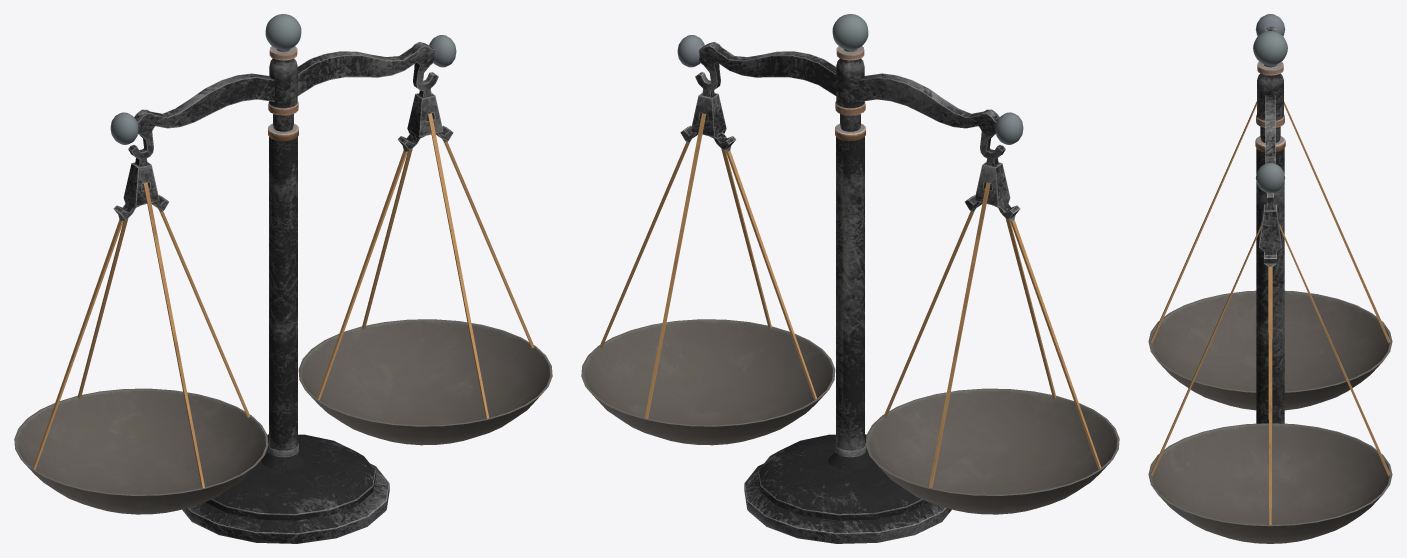
The model's file is scales-transformed.glb.
3 views of the same model, side by side, from view 1: azimuth 30°, elevation 25°; view 2: azimuth 150°, elevation 25°; view 3: azimuth 270°, elevation 25° (orthographic). The views are drawn at different scales.
Parts seen in each view (by area): view 1: scales_0; view 2: scales_0; view 3: scales_0.
Boxes of the visible parts, x1,y1,x2,y2 form: scales_0: (14, 14, 552, 543); scales_0: (581, 14, 1119, 543); scales_0: (1148, 14, 1392, 543).
Bounding box in the file's own units: 3.86 × 3.54 × 1.69.
Materials: 1 (1 with a texture image).
